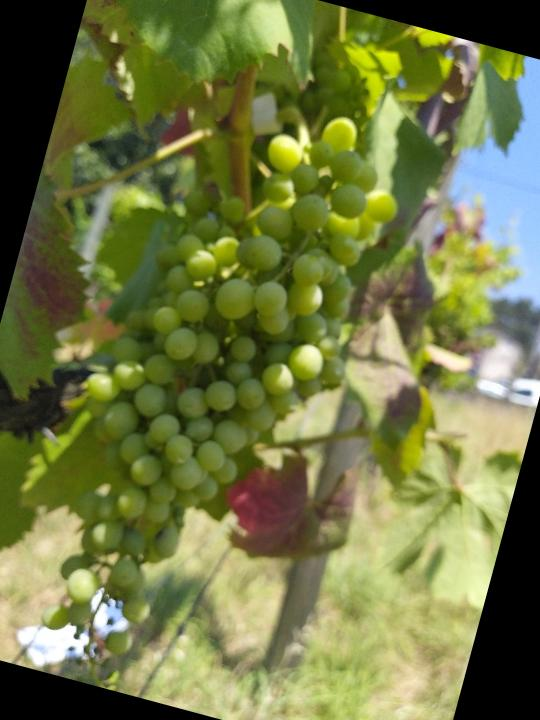grape: (10, 71, 418, 720)
